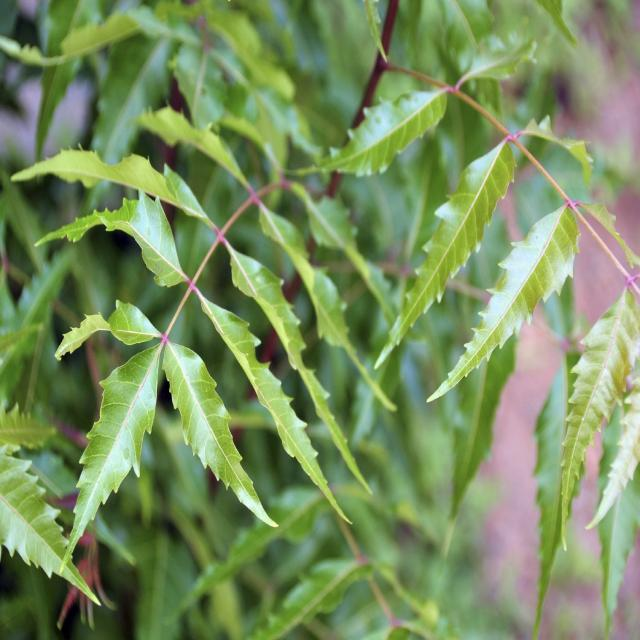Medicinal-Neem: (39, 51, 640, 561)
